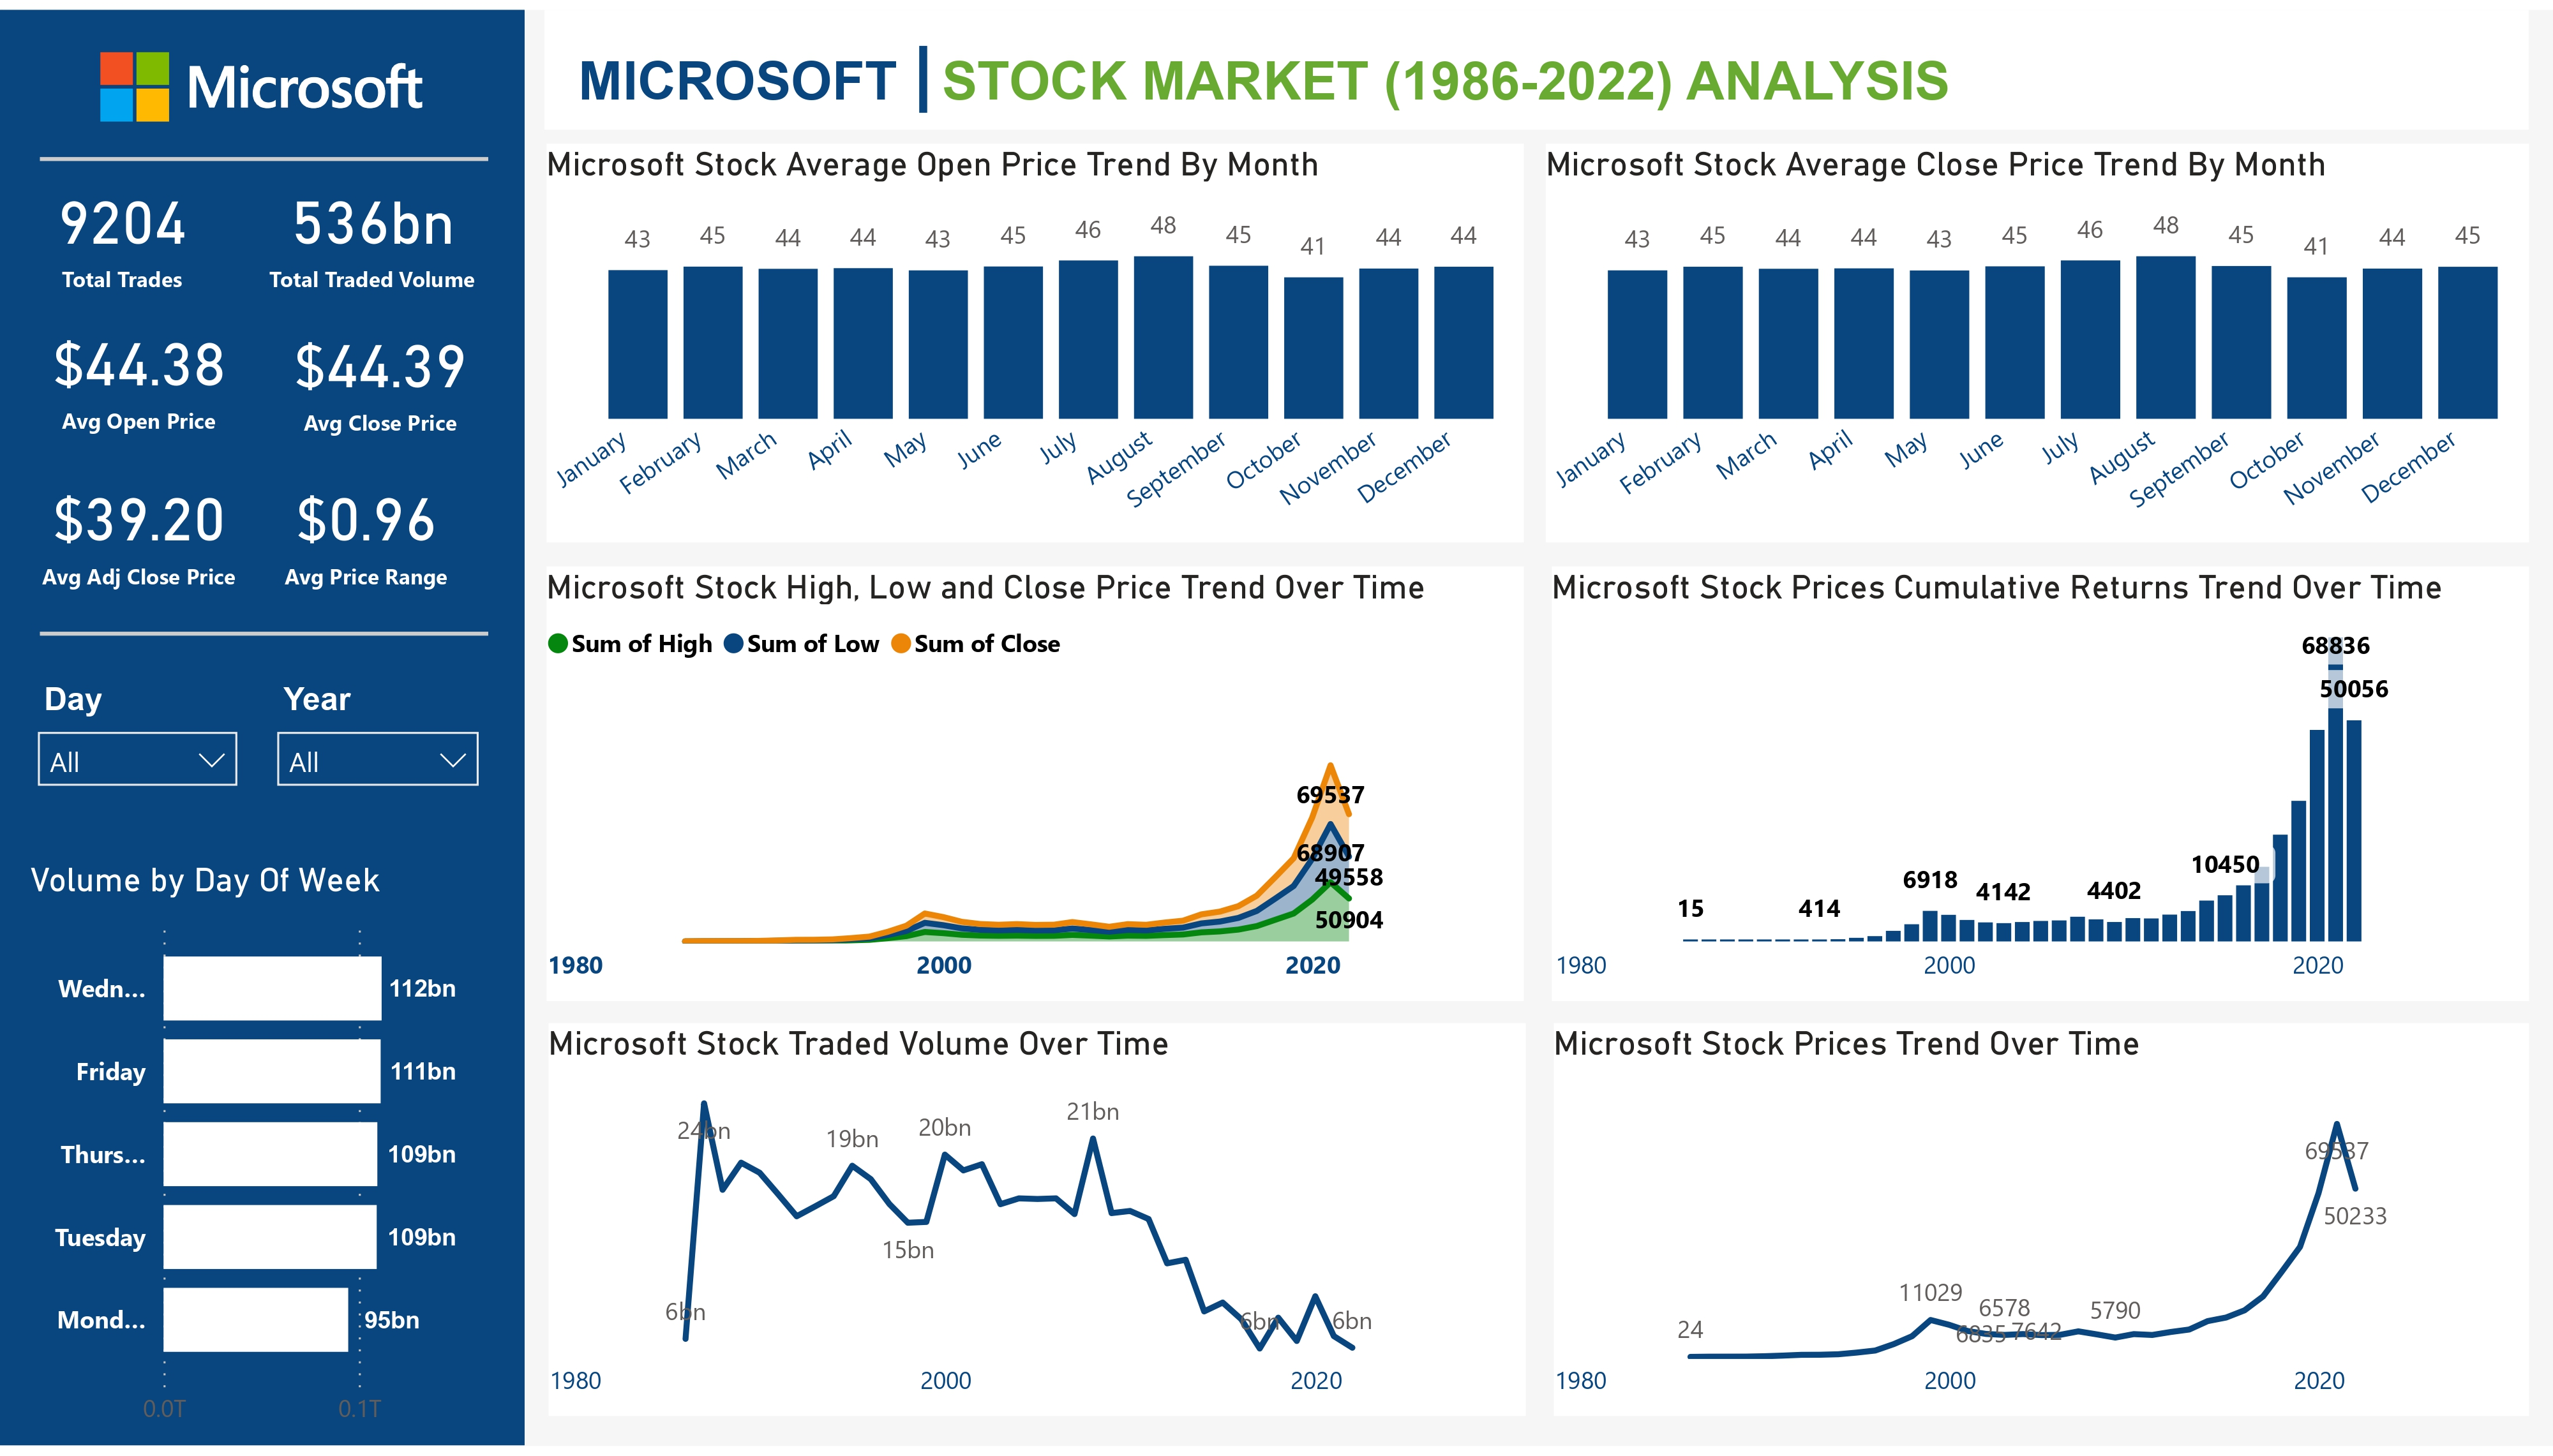

Layout of this report page (visuals, bound fields, positions):
{"tool":"powerbi","page":{"name":"REPORT","canvas":[1280,720],"ordinal":0},"visuals":[{"type":"shape","box":[0,0,263.4,719.7],"z":0},{"type":"image","box":[23.5,0,216.4,80.5],"z":1000},{"type":"card","fields":{"Values":["DAX.Total Traded Volume"]},"box":[117.4,72.1,139.2,78.8],"z":2000},{"type":"card","fields":{"Values":["DAX.Total Trades"]},"box":[0,72.1,122.5,78.8],"z":3000},{"type":"card","fields":{"Values":["DAX.Formatted Average Open Price"]},"box":[0,142.6,139.2,78.8],"z":4000},{"type":"card","fields":{"Values":["DAX.Average Closing Price"]},"box":[120.8,144.3,139.2,78.8],"z":5000},{"type":"card","fields":{"Values":["DAX.Average Adj Closing Price"]},"box":[0,221.4,139.2,78.8],"z":6000},{"type":"card","fields":{"Values":["DAX.Avg Price Range"]},"box":[114.1,221.4,139.2,78.8],"z":7000},{"type":"shape","box":[20.1,275.1,224.8,75.5],"z":8000},{"type":"shape","box":[20.1,36.9,224.8,75.5],"z":9000},{"type":"shape","box":[273.4,0,994.8,60.4],"z":10000},{"type":"textbox","box":[284.9,15.6,725.7,42.5],"z":11000},{"type":"shape","box":[431.1,18.5,63.7,33.6],"z":12000},{"type":"lineChart","title":"Microsoft Stock Traded Volume Over Time","fields":{"Category":["MSFT.Year"],"Y":["DAX.Total Traded Volume"]},"box":[274.8,508.4,490.3,197.4],"z":13000},{"type":"barChart","title":"Volume by Day Of Week","fields":{"Y":["DAX.Total Traded Volume"],"Category":["MSFT.DayOfWeek"]},"box":[10.1,421.1,234.9,298.6],"z":14000},{"type":"lineChart","title":"Microsoft Stock Prices Trend Over Time","fields":{"Category":["MSFT.Year"],"Y":["Sum(MSFT.Close)"]},"box":[779.4,508.4,489,197.4],"z":15000},{"type":"lineStackedColumnComboChart","title":"Microsoft Stock Prices  Cumulative Returns Trend Over Time","fields":{"Category":["MSFT.Year"],"Y":["Sum(MSFT.Adj Close)"]},"box":[778.1,278.7,490.3,218.1],"z":16000},{"type":"stackedAreaChart","title":"Microsoft Stock High, Low and Close Price Trend Over Time","fields":{"Category":["MSFT.Year"],"Y":["Sum(MSFT.High)","Sum(MSFT.Low)","Sum(MSFT.Close)"]},"box":[273.5,278.7,490.3,218.1],"z":17000},{"type":"lineClusteredColumnComboChart","title":"Microsoft Stock Average Open Price Trend By Month","fields":{"Category":["MSFT.Date.Variation.Date Hierarchy.Month"],"Y":["DAX.Old Average Open Price"]},"box":[273.5,67.1,490.3,200],"z":18000},{"type":"lineClusteredColumnComboChart","title":"Microsoft Stock Average Close Price Trend By Month","fields":{"Category":["MSFT.Date.Variation.Date Hierarchy.Month"],"Y":["DAX.Old Average Closing Price"]},"box":[775.5,67.1,492.9,200],"z":19000},{"type":"slicer","fields":{"Values":["MSFT.DayOfWeek"]},"box":[9,331.6,120,89],"z":20000},{"type":"slicer","fields":{"Values":["MSFT.Year"]},"box":[129.2,332.2,120.8,88.9],"z":21000}]}

Visuals, with their boxes in screenshot pixels (x1, y1, x2, y2), scaled from the page's 1280x720 canvas onto the 2553x1456 screenshot:
shape: x1=0 y1=0 x2=525 y2=1455
image: x1=47 y1=0 x2=479 y2=163
card - DAX.Total Traded Volume: x1=234 y1=146 x2=512 y2=305
card - DAX.Total Trades: x1=0 y1=146 x2=244 y2=305
card - DAX.Formatted Average Open Price: x1=0 y1=288 x2=278 y2=448
card - DAX.Average Closing Price: x1=241 y1=292 x2=518 y2=451
card - DAX.Average Adj Closing Price: x1=0 y1=448 x2=278 y2=607
card - DAX.Avg Price Range: x1=228 y1=448 x2=505 y2=607
shape: x1=40 y1=556 x2=488 y2=709
shape: x1=40 y1=75 x2=488 y2=227
shape: x1=545 y1=0 x2=2529 y2=122
textbox: x1=568 y1=31 x2=2016 y2=117
shape: x1=860 y1=38 x2=987 y2=105
"Microsoft Stock Traded Volume Over Time" lineChart: x1=548 y1=1028 x2=1526 y2=1427
"Volume by Day Of Week" barChart: x1=20 y1=852 x2=489 y2=1455
"Microsoft Stock Prices Trend Over Time" lineChart: x1=1555 y1=1028 x2=2530 y2=1427
"Microsoft Stock Prices  Cumulative Returns Trend Over Time" lineStackedColumnComboChart: x1=1552 y1=563 x2=2530 y2=1005
"Microsoft Stock High, Low and Close Price Trend Over Time" stackedAreaChart: x1=546 y1=563 x2=1524 y2=1005
"Microsoft Stock Average Open Price Trend By Month" lineClusteredColumnComboChart: x1=546 y1=136 x2=1524 y2=540
"Microsoft Stock Average Close Price Trend By Month" lineClusteredColumnComboChart: x1=1546 y1=136 x2=2530 y2=540
slicer - MSFT.DayOfWeek: x1=18 y1=671 x2=257 y2=851
slicer - MSFT.Year: x1=258 y1=672 x2=498 y2=852
